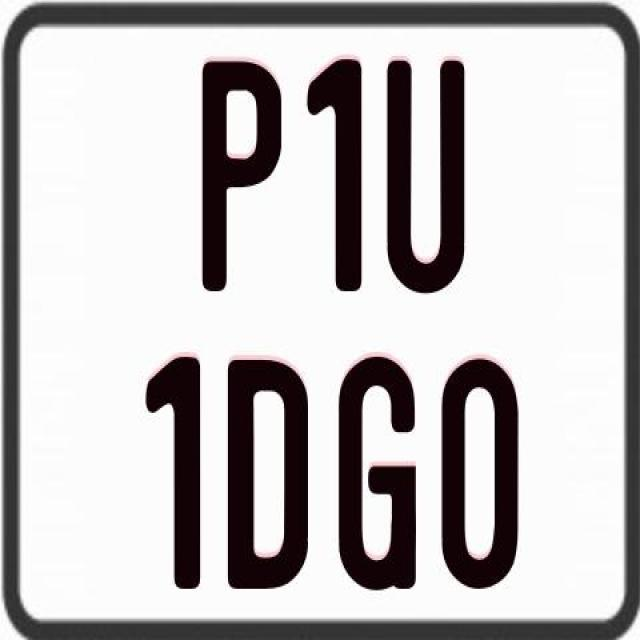0: (437, 354, 515, 590)
1: (143, 352, 204, 592), (305, 59, 367, 294)
D: (225, 358, 311, 592)
G: (336, 356, 419, 598)
P: (201, 56, 280, 293)
U: (387, 59, 465, 299)
